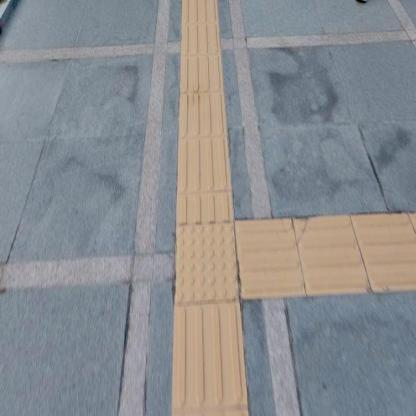podotacti: (151, 166, 275, 340), (241, 210, 415, 300), (176, 0, 235, 224), (175, 303, 243, 415)
